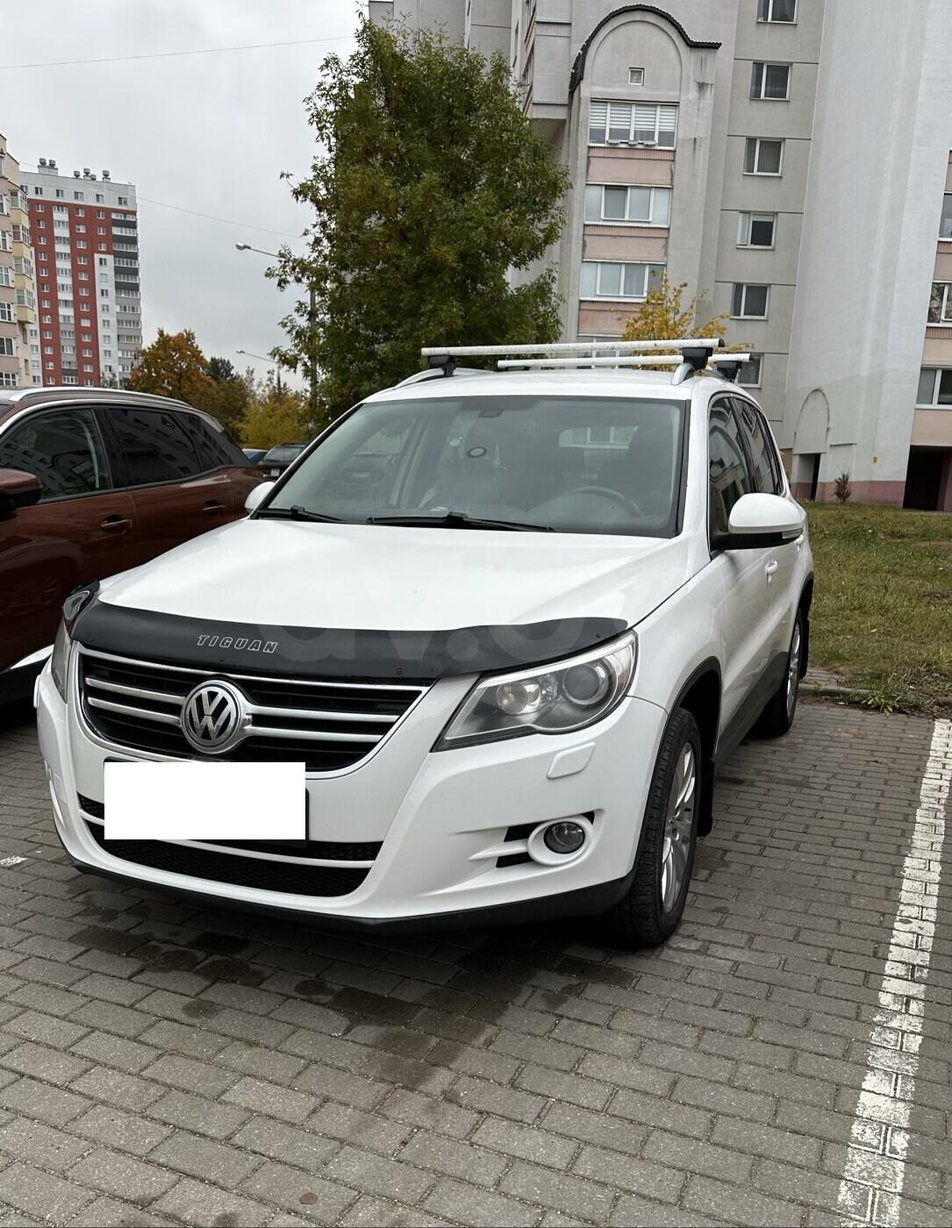Tiguan_2007-2011: (35, 360, 818, 953)
